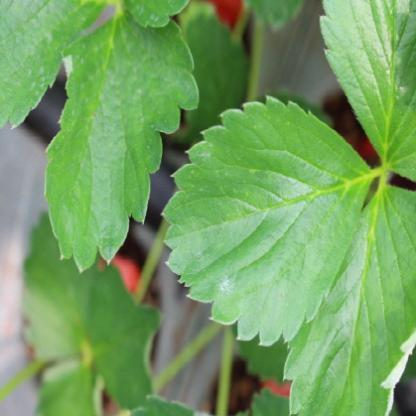Strawberry_Powdery_Mildew_Leaf: (160, 96, 376, 348), (43, 10, 200, 276)
